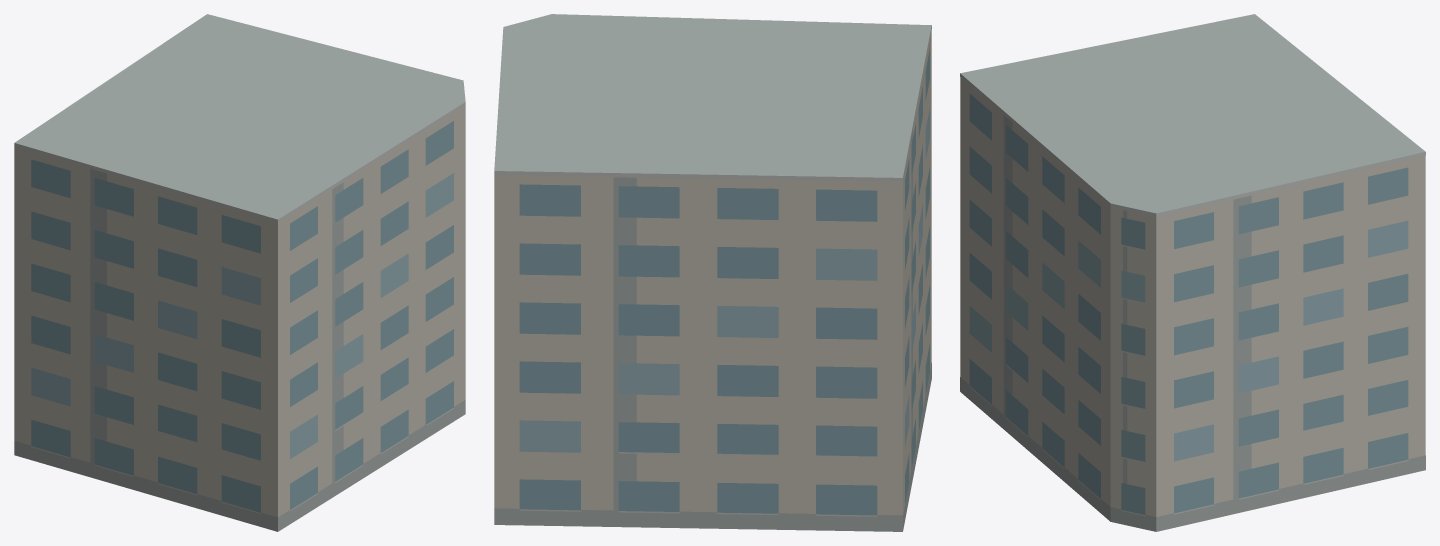
File: survey-upis-32832682.glb
3 renders of one model, left to right at view 1: azimuth 30°, elevation 25°; view 2: azimuth 150°, elevation 25°; view 3: azimuth 270°, elevation 25°, orthographic. The views are drawn at different scales.
Parts seen in each view (by area): view 1: survey-upis-32832682.tmp; view 2: survey-upis-32832682.tmp; view 3: survey-upis-32832682.tmp.
Part boxes in pixels (x1,y1,x2,y2): survey-upis-32832682.tmp: (14,14,465,531); survey-upis-32832682.tmp: (494,14,931,531); survey-upis-32832682.tmp: (960,14,1425,531).
Bounding box in the file's own units: 27.35 × 20.35 × 26.98.
